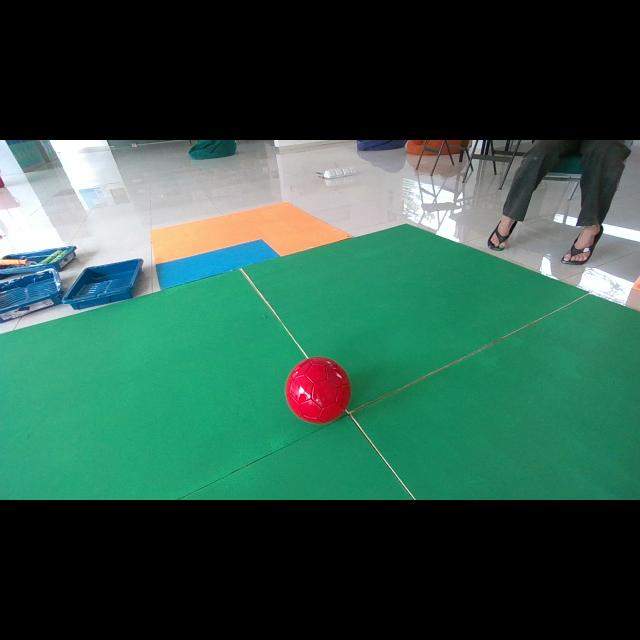R: (285, 356, 351, 424)
